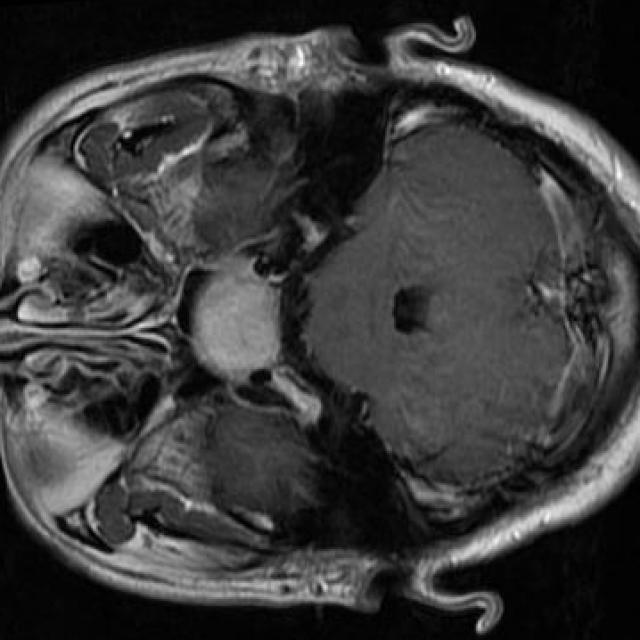pituitary: (194, 273, 278, 380)
